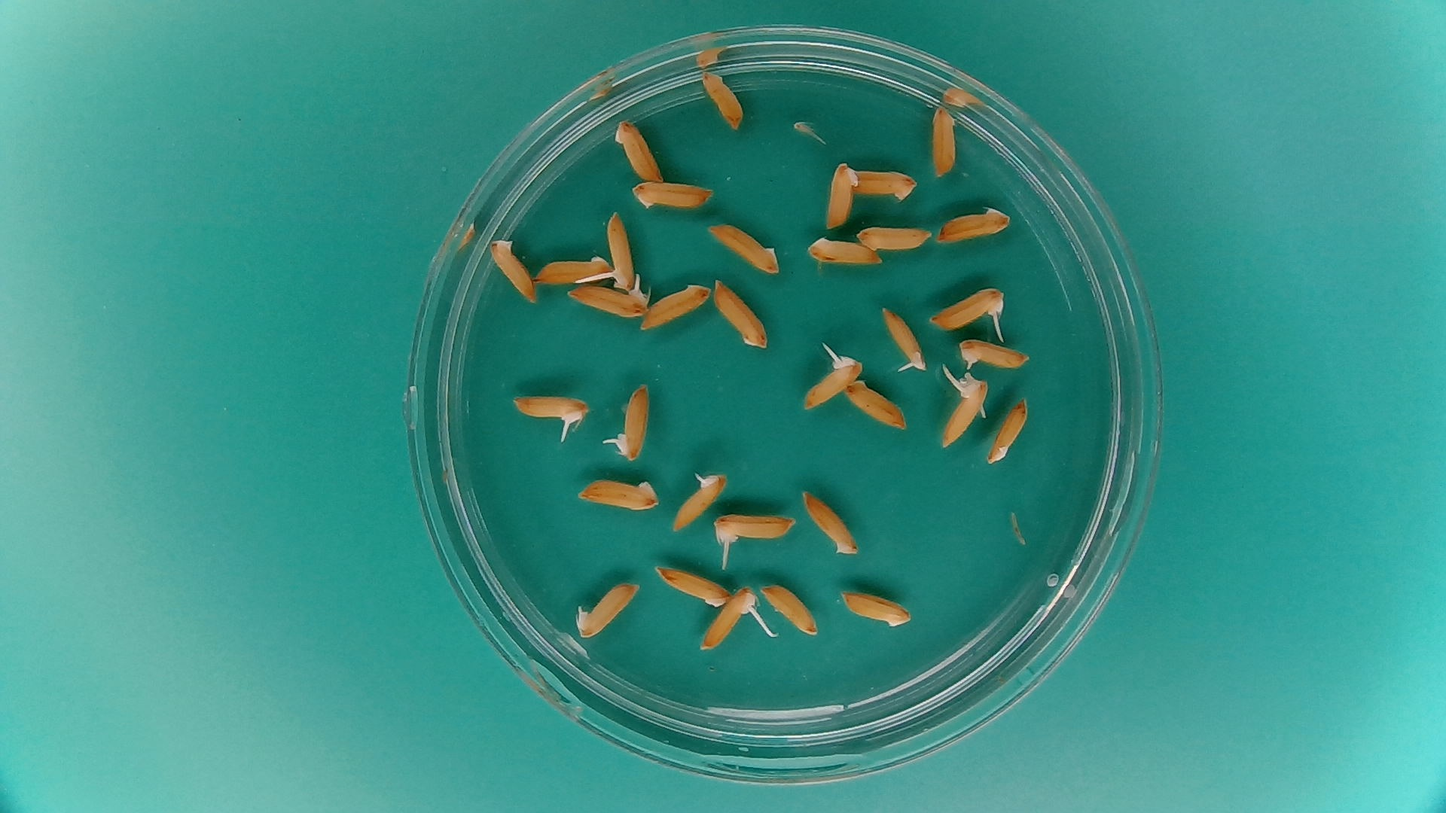no: (704, 220, 782, 277), (712, 275, 769, 349), (650, 562, 734, 607), (806, 487, 860, 556), (639, 280, 712, 331), (612, 116, 665, 182), (760, 580, 821, 637), (488, 234, 538, 303), (575, 475, 662, 514), (844, 379, 909, 431), (934, 204, 1012, 245), (986, 396, 1031, 467), (630, 177, 718, 212), (531, 251, 615, 287), (803, 231, 883, 268), (822, 157, 861, 231), (840, 589, 912, 628), (698, 69, 744, 130), (851, 166, 920, 202), (929, 102, 959, 178), (856, 224, 933, 253)
yes: (697, 587, 764, 651), (929, 282, 1010, 334), (508, 390, 593, 436), (606, 379, 651, 464), (670, 467, 727, 534), (799, 352, 859, 413), (573, 585, 640, 639), (568, 276, 652, 318), (879, 303, 926, 376), (941, 376, 989, 447), (598, 209, 636, 290), (710, 510, 792, 544), (956, 336, 1031, 370)
